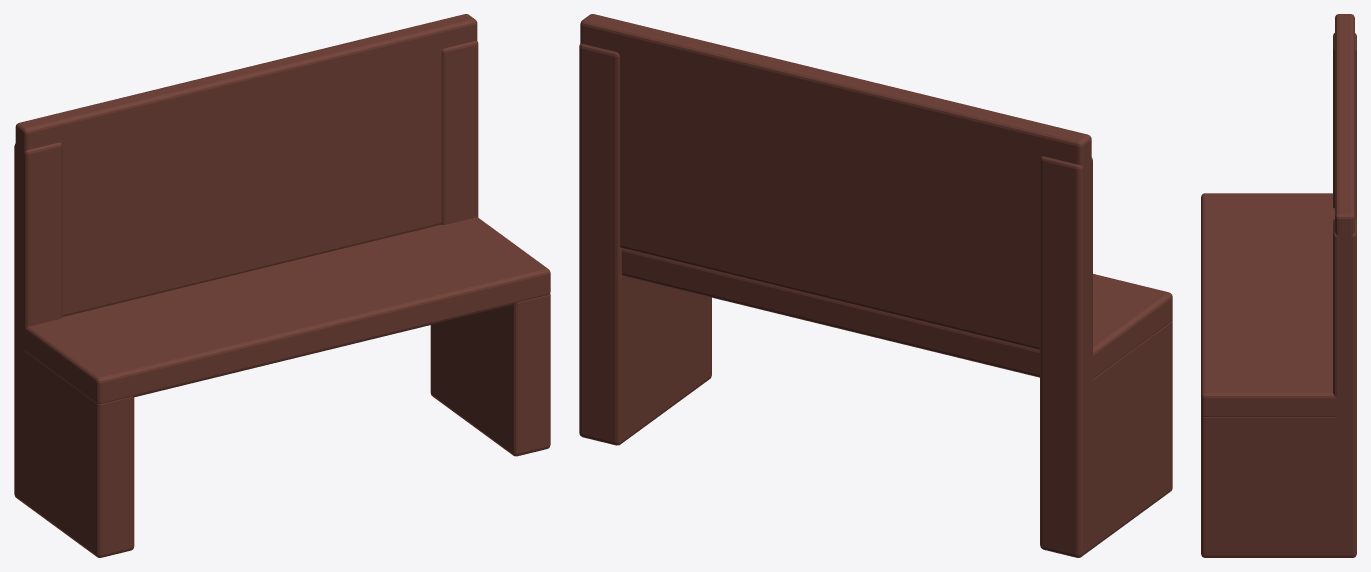
The model's file is pew_coffin_wood.glb.
The picture shows the model from 3 angles, left to right: view 1: azimuth 30°, elevation 25°; view 2: azimuth 150°, elevation 25°; view 3: azimuth 270°, elevation 25°; orthographic projection. The views are drawn at different scales.
Parts seen in each view (by area): view 1: GD_pew_coffin_wood__m0; view 2: GD_pew_coffin_wood__m0; view 3: GD_pew_coffin_wood__m0.
Part boxes in pixels (x1,y1,x2,y2): GD_pew_coffin_wood__m0: (14,14,550,557); GD_pew_coffin_wood__m0: (579,14,1172,557); GD_pew_coffin_wood__m0: (1201,14,1356,557).
Size of the model in its own units: 1.2 by 0.95 by 0.39.
